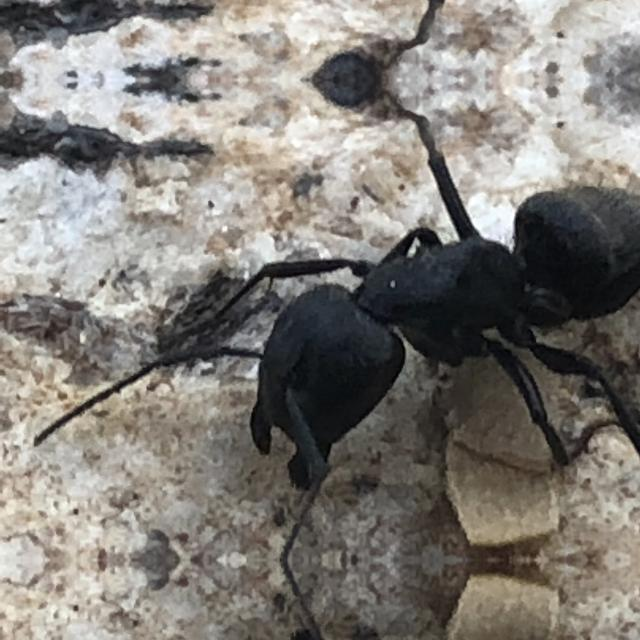Camponotus: (167, 130, 639, 520)
